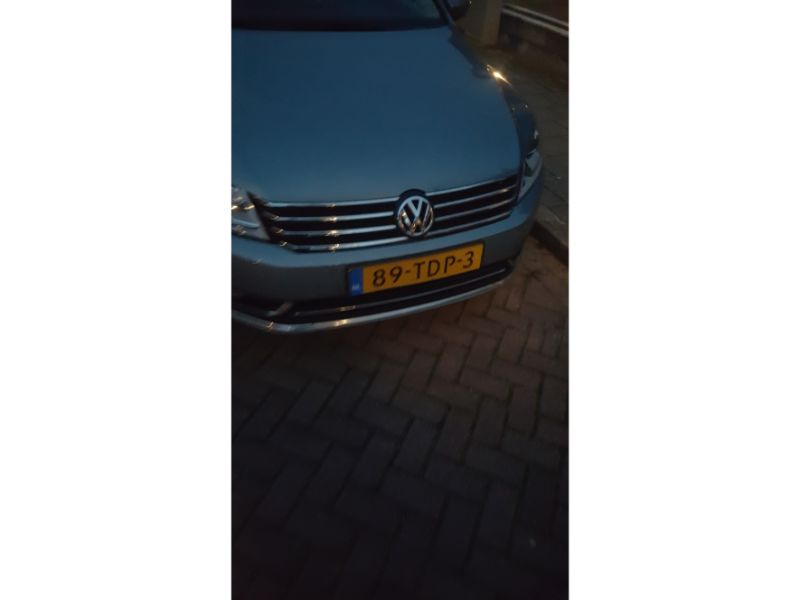kenteken: (346, 242, 490, 305)
